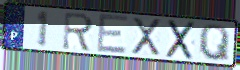1: (36, 10, 50, 49)
E: (96, 12, 131, 56)
Q: (197, 23, 230, 64)
R: (61, 11, 96, 53)
X: (164, 18, 197, 61), (131, 16, 163, 57)
